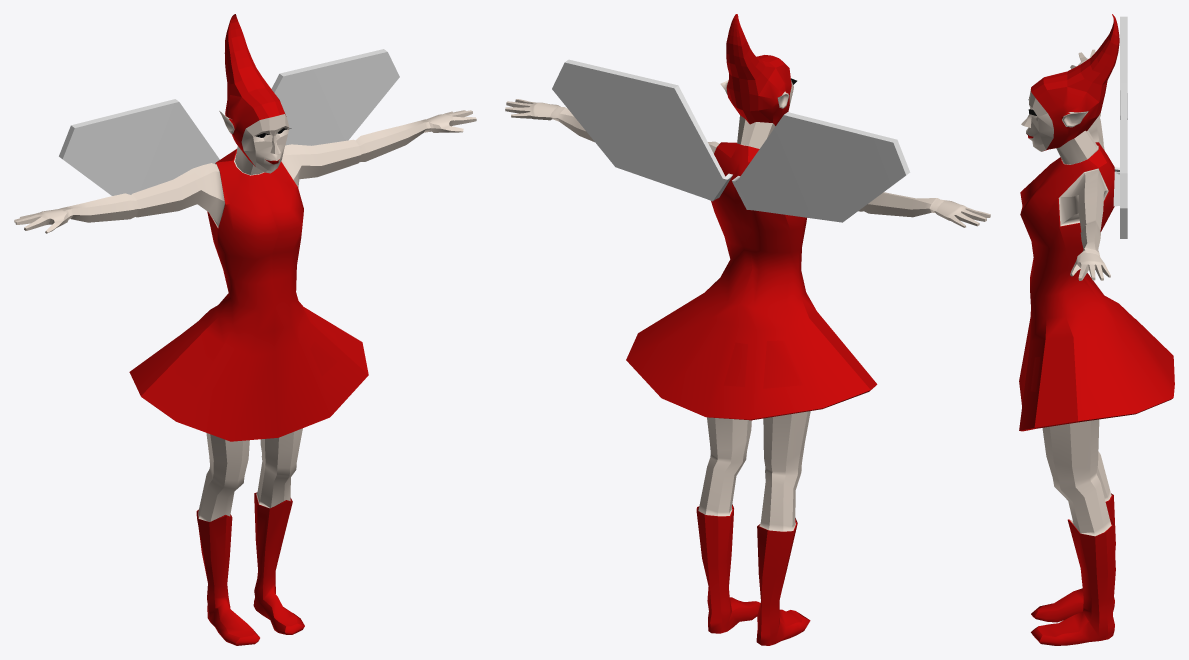
The model's file is fee.fbx.
3 renders of one model, left to right at view 1: azimuth 30°, elevation 25°; view 2: azimuth 150°, elevation 25°; view 3: azimuth 270°, elevation 25°, orthographic. The views are drawn at different scales.
Visible parts, largest first — view 1: yeux1; view 2: yeux1; view 3: yeux1.
Boxes of the visible parts, x1=… form: yeux1: x1=14, y1=14, x2=476, y2=645; yeux1: x1=505, y1=14, x2=990, y2=645; yeux1: x1=1019, y1=14, x2=1174, y2=645.
Size of the model in its own units: 143 by 179 by 41.21.
